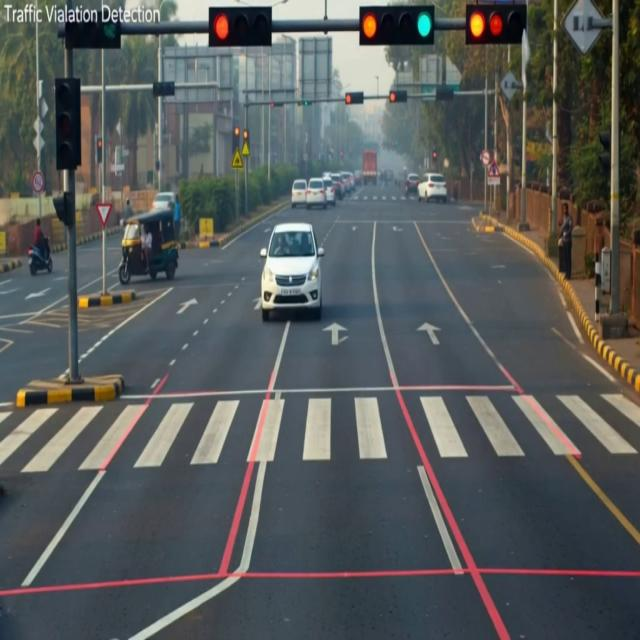car: (260, 223, 324, 320), (418, 174, 447, 203), (306, 178, 327, 210), (323, 176, 337, 207), (152, 192, 175, 210), (292, 179, 306, 207), (331, 174, 344, 199), (405, 174, 419, 195), (341, 172, 351, 194), (348, 172, 355, 191), (354, 170, 362, 186)
scooty: (28, 238, 52, 276)
traffic signal: (360, 5, 434, 46), (209, 7, 271, 47), (466, 4, 526, 45), (55, 78, 81, 170), (65, 17, 121, 49), (53, 192, 74, 227), (599, 131, 610, 173), (153, 82, 174, 97), (436, 86, 454, 101), (389, 90, 407, 103), (345, 92, 363, 104), (96, 136, 102, 164), (233, 126, 240, 149), (242, 129, 249, 152), (432, 149, 437, 164), (243, 129, 248, 143), (270, 103, 283, 108), (298, 101, 310, 106), (270, 103, 275, 108), (340, 151, 343, 158)
truck: (363, 150, 377, 184)
